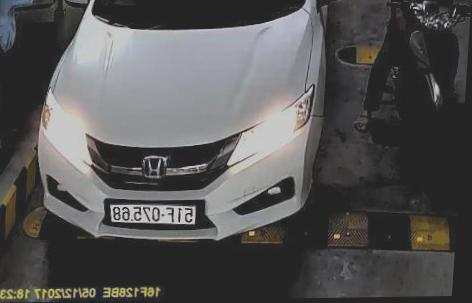License_Plate: (103, 200, 197, 229)
